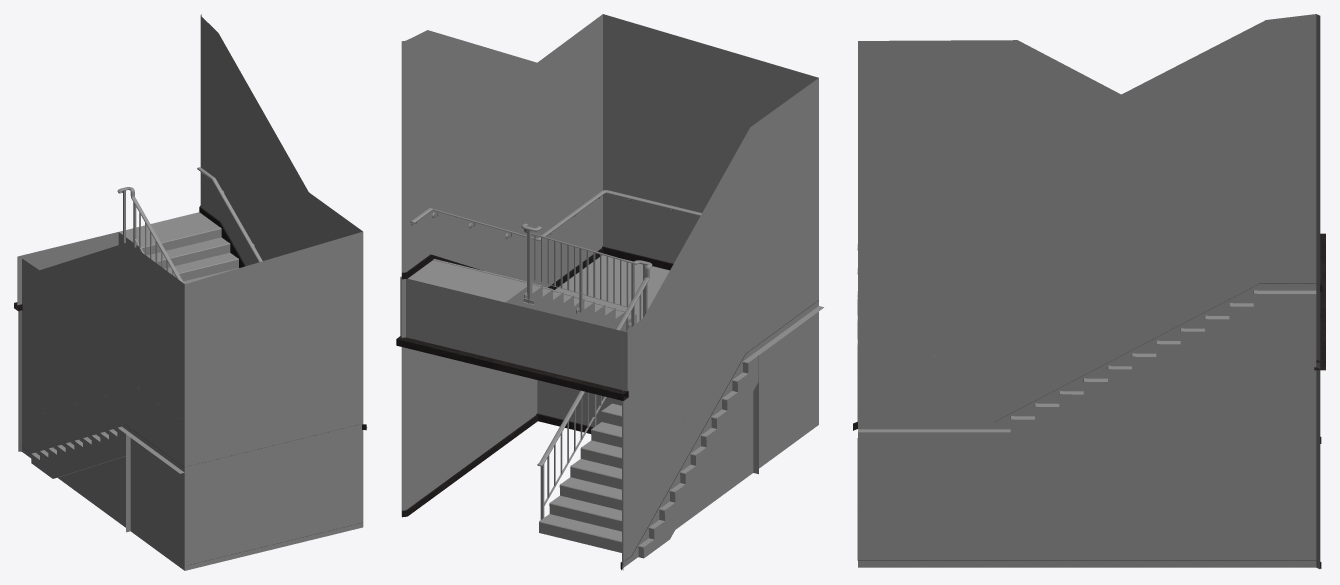
File: StairsMod_Ground.FBX
The picture shows the model from 3 angles, left to right: view 1: azimuth 30°, elevation 25°; view 2: azimuth 150°, elevation 25°; view 3: azimuth 270°, elevation 25°; orthographic projection. The views are drawn at different scales.
Parts seen in each view (by area): view 1: StairsMod_Ground, StairsMod_RailingInside_Loop, StairsMod_StepProtectors, StairsMod_RailingOutside; view 2: StairsMod_Ground, StairsMod_RailingInside_Loop, StairsMod_StepProtectors, StairsMod_RailingOutside; view 3: StairsMod_Ground.
Part boxes in pixels (x1=…): StairsMod_Ground: x1=14, y1=14, x2=367, y2=570; StairsMod_RailingInside_Loop: x1=117, y1=187, x2=184, y2=283; StairsMod_StepProtectors: x1=31, y1=227, x2=238, y2=455; StairsMod_RailingOutside: x1=179, y1=167, x2=307, y2=420; StairsMod_Ground: x1=396, y1=14, x2=823, y2=570; StairsMod_RailingInside_Loop: x1=521, y1=223, x2=652, y2=519; StairsMod_StepProtectors: x1=433, y1=259, x2=749, y2=549; StairsMod_RailingOutside: x1=410, y1=190, x2=788, y2=480; StairsMod_Ground: x1=853, y1=14, x2=1325, y2=568.
Size of the model in its own units: 400 by 800 by 619.
